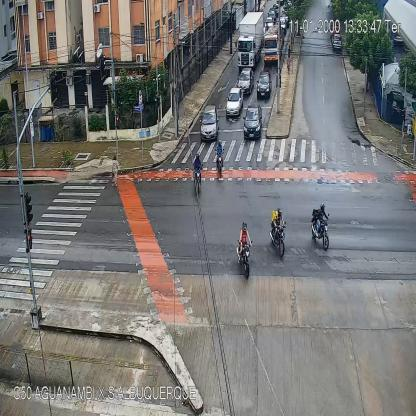car: (200, 105, 219, 141), (244, 105, 263, 137), (227, 86, 242, 117), (256, 70, 272, 99), (238, 69, 254, 92), (280, 10, 289, 26), (278, 15, 286, 29), (266, 16, 274, 30), (333, 36, 341, 48), (268, 8, 275, 21), (272, 4, 278, 14)
motorbike: (237, 222, 253, 280), (312, 203, 329, 252), (270, 208, 286, 257), (215, 139, 225, 179), (194, 152, 202, 196)
person: (112, 156, 118, 185), (287, 52, 291, 75)
truck: (235, 10, 264, 70), (263, 26, 279, 60)
